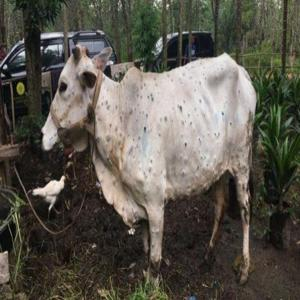lumpy skin diesease: (39, 44, 257, 294)
